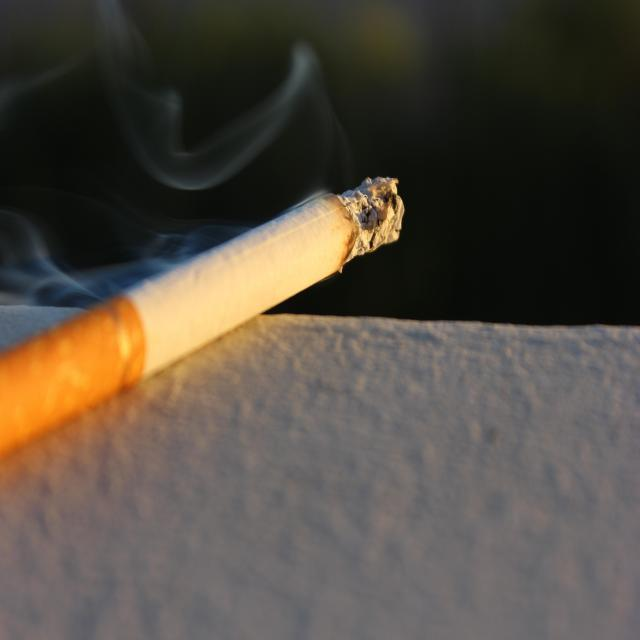cigarette: (0, 175, 406, 460)
